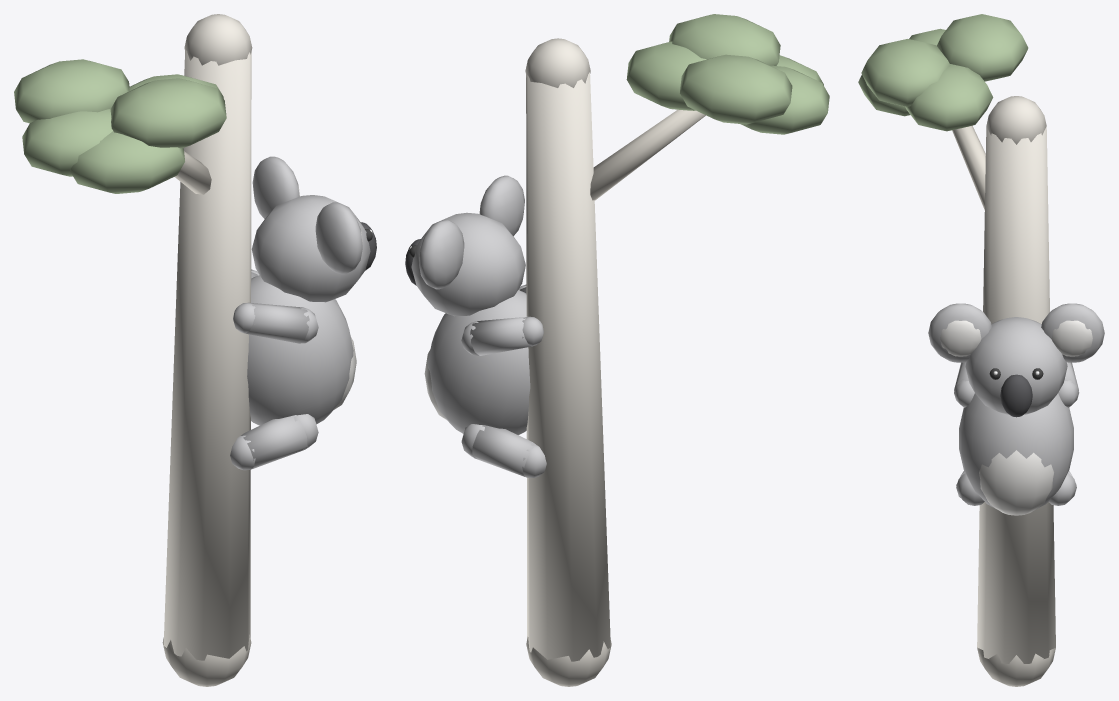
The model's file is koala.glb.
3 views of the same model, side by side, from view 1: azimuth 30°, elevation 25°; view 2: azimuth 150°, elevation 25°; view 3: azimuth 270°, elevation 25° (orthographic). The views are drawn at different scales.
Parts seen in each view (by area): view 1: e, e.019; view 2: e, e.019; view 3: e, e.019.
Boxes of the visible parts, x1,y1,x2,y2 form: e: [14, 14, 356, 686]; e.019: [251, 156, 376, 302]; e: [424, 14, 829, 686]; e.019: [405, 175, 525, 316]; e: [858, 14, 1079, 686]; e.019: [928, 303, 1104, 417].
Bounding box in the file's own units: 1.74 × 2.82 × 1.06.
